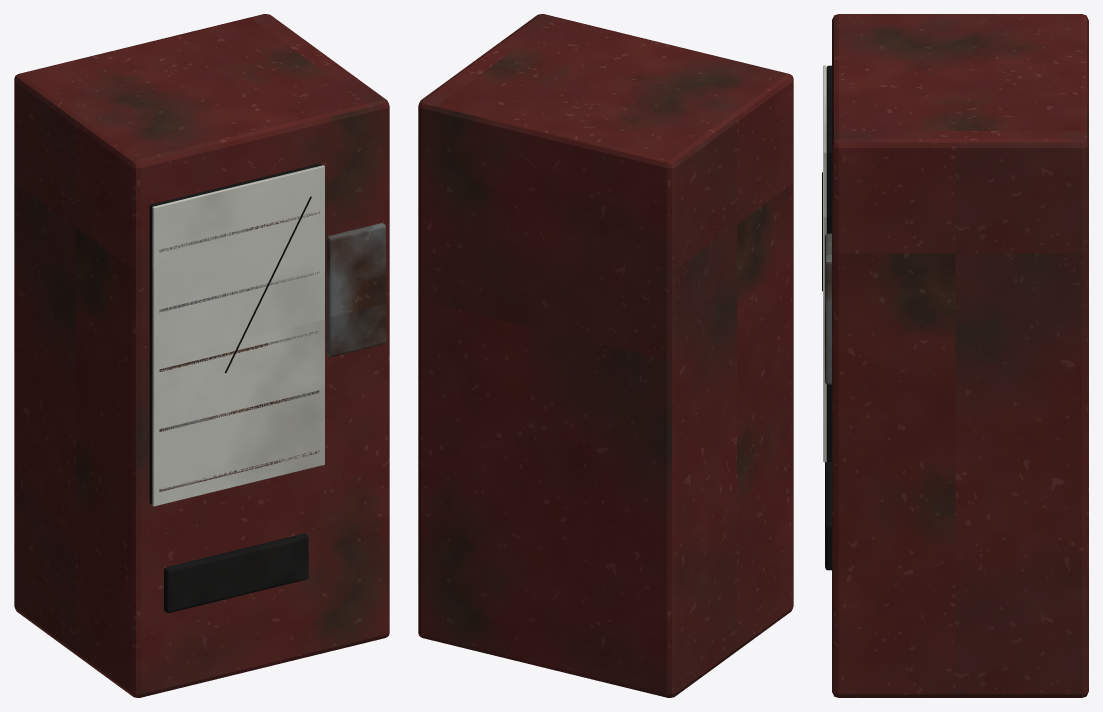
Rendered from F38_vending_machine.glb.
3 renders of one model, left to right at view 1: azimuth 30°, elevation 25°; view 2: azimuth 150°, elevation 25°; view 3: azimuth 270°, elevation 25°, orthographic. The views are drawn at different scales.
Parts seen in each view (by area): view 1: F38_vending_machine; view 2: F38_vending_machine; view 3: F38_vending_machine.
Part boxes in pixels (bbox=[...]): F38_vending_machine: bbox=[14, 14, 389, 697]; F38_vending_machine: bbox=[418, 14, 793, 697]; F38_vending_machine: bbox=[822, 14, 1088, 697].
Bounding box in the file's own units: 0.9 × 1.8 × 0.7785.
Materials: 10 (10 with a texture image).
